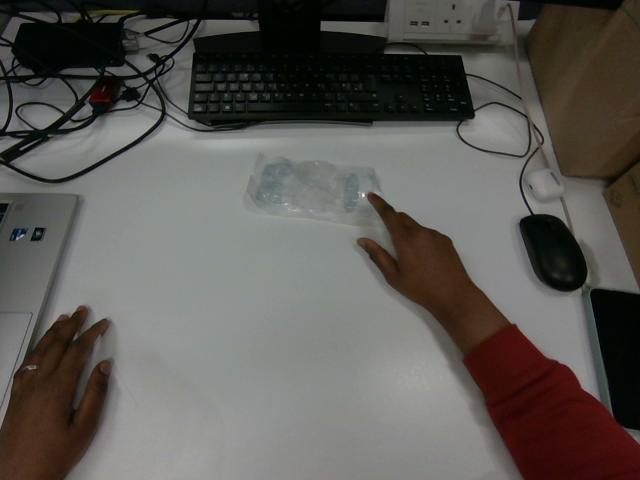gallipot: (245, 153, 379, 225)
